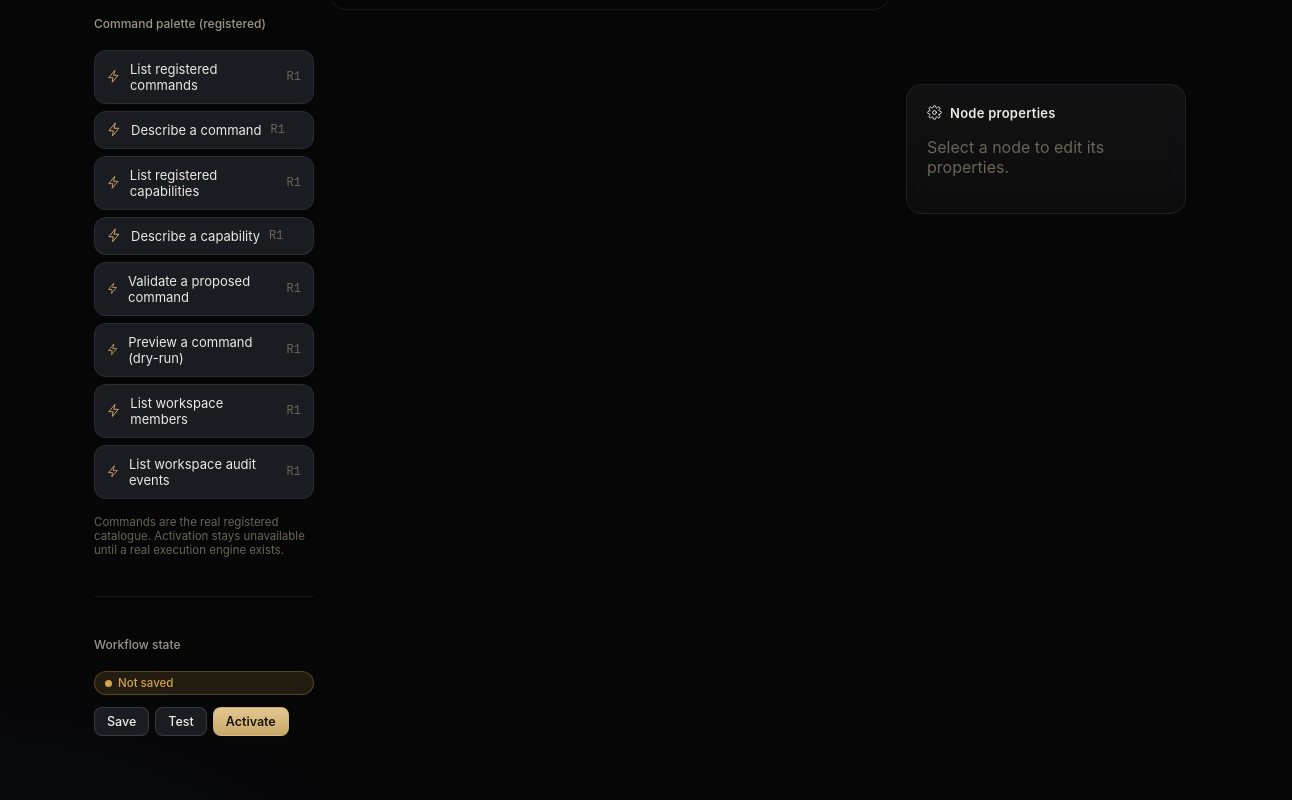
Test case: Automation Studio › updates the workflow status on save
This screenshot has width=1292, height=800.
(page scrolled)
Expected: the text "Not saved" is shown, [94,671,314,695]
Click the button "Save" at x=122, y=722, box [94,707,149,736]
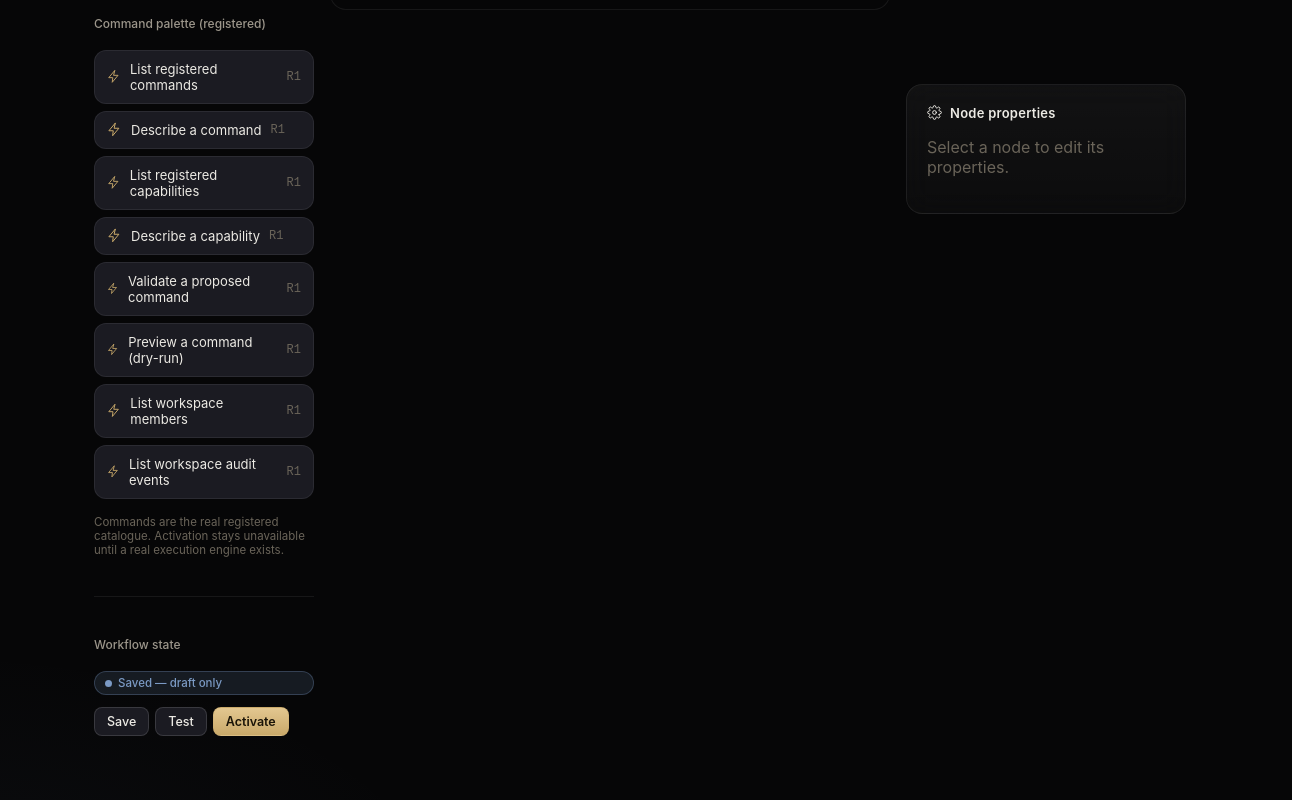
Result: the text "Saved — draft only" is shown at [94,671,314,695]
